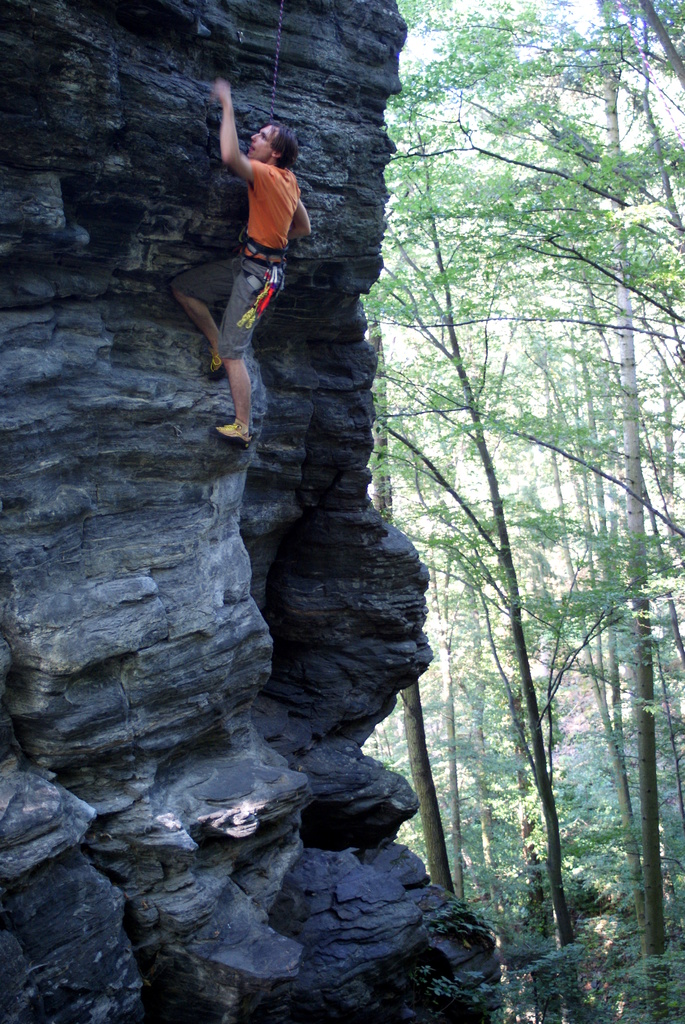Human_hand: (214, 77, 232, 102)
